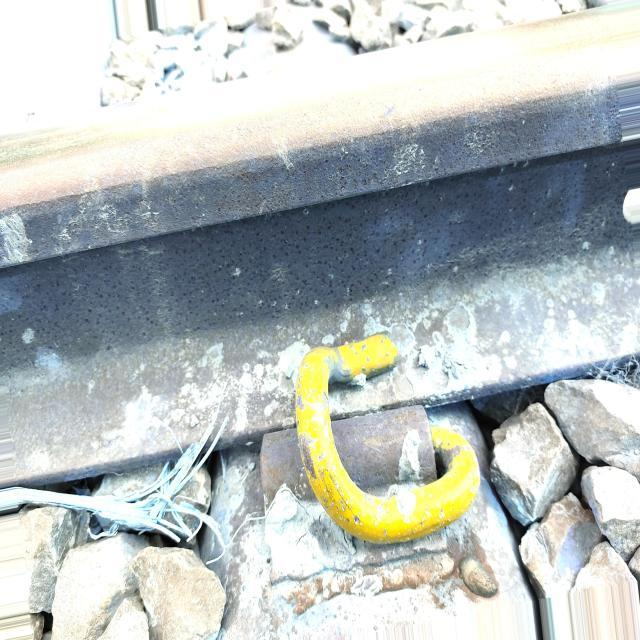broken_rail_medium: (385, 105, 394, 117)
